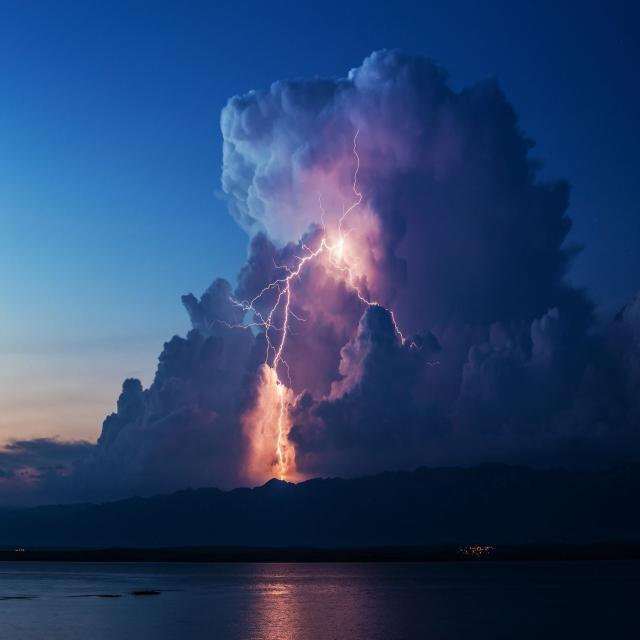cumulonimbus: (1, 42, 640, 492)
